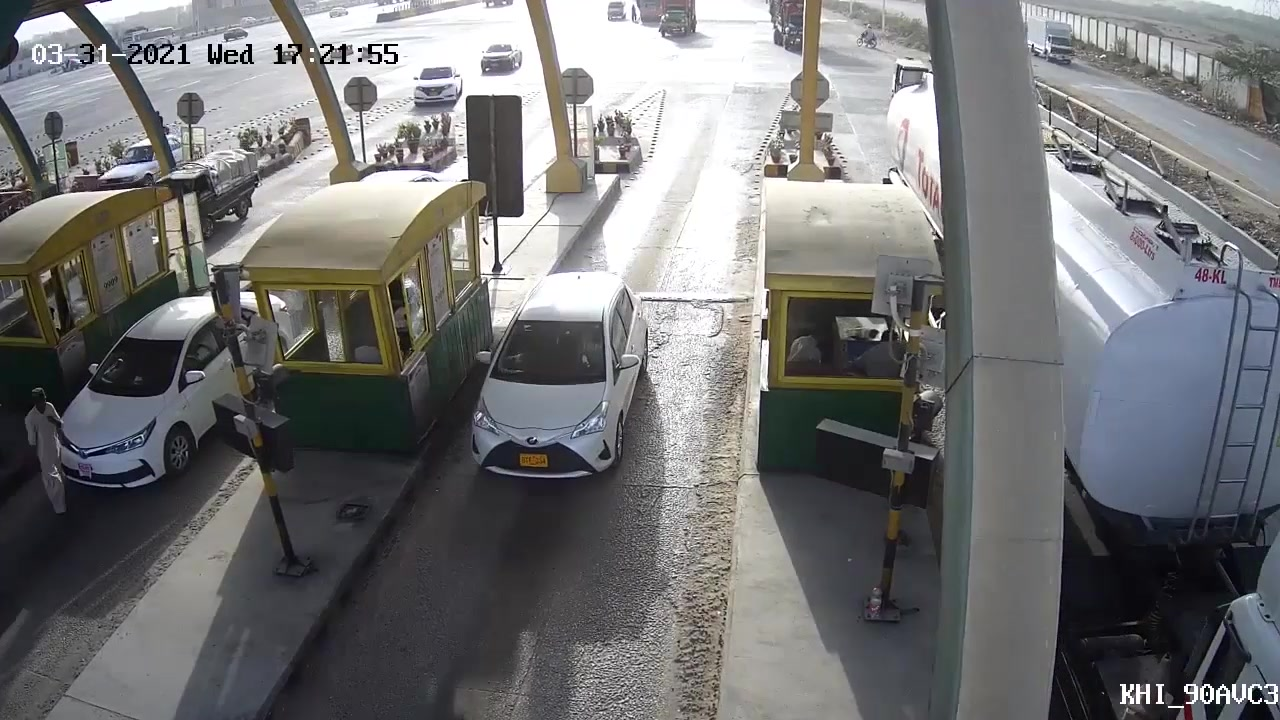F1: (457, 265, 660, 488)
